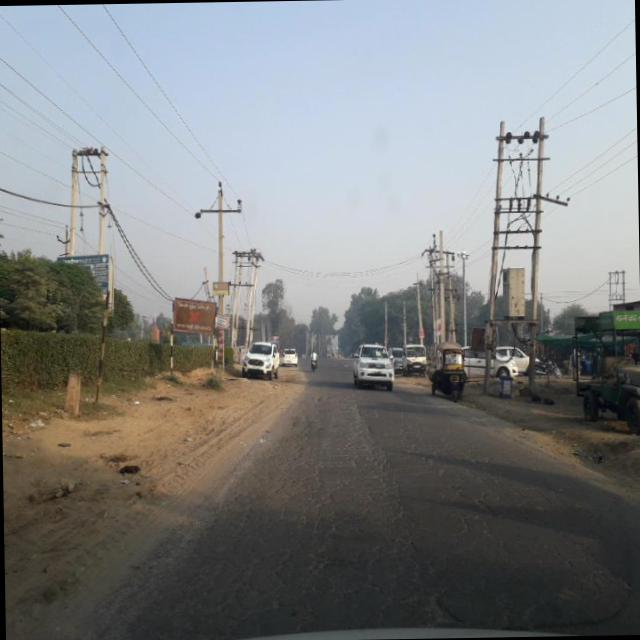crack: (146, 430, 637, 622)
